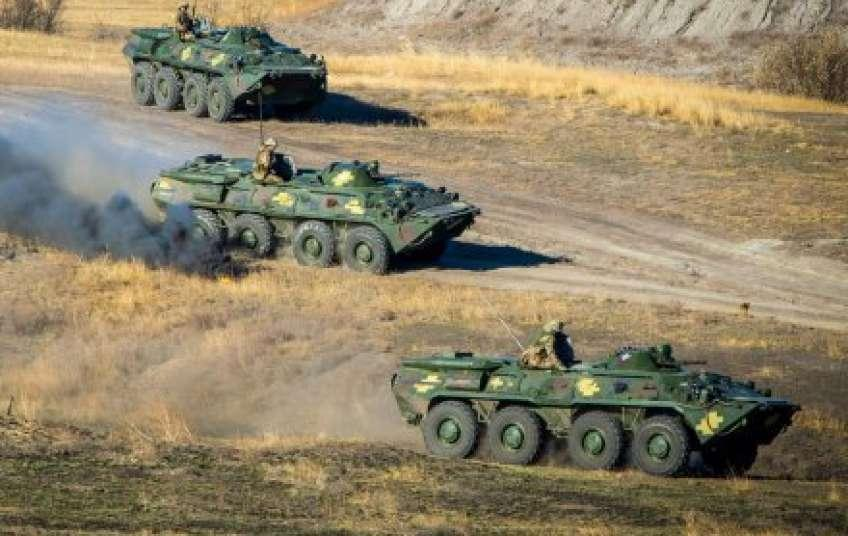person: (521, 318, 569, 373), (253, 135, 286, 185), (174, 3, 202, 41)
tank: (388, 328, 804, 487), (149, 150, 483, 277), (121, 24, 329, 123)
